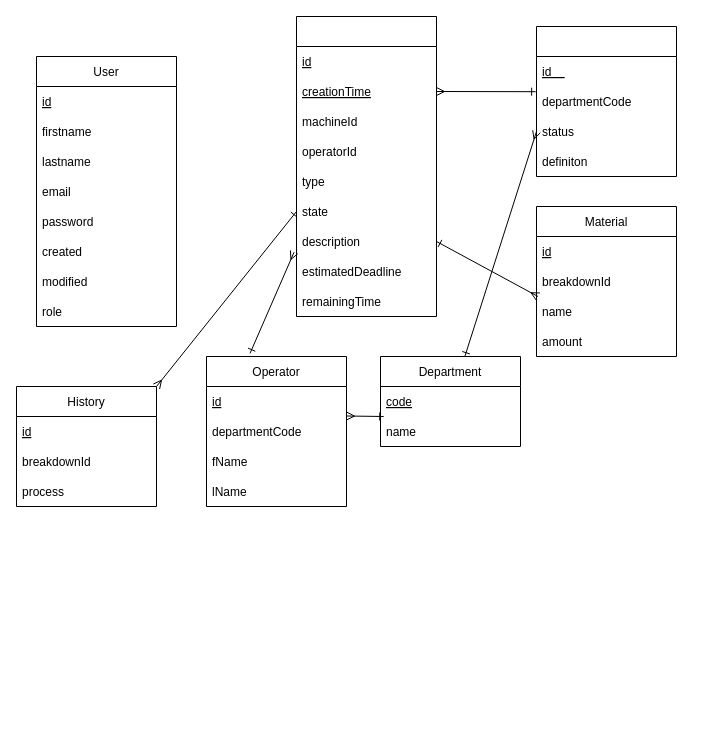
Image size: 713x733. Some labels were removed from this diagram. The shapes that lost their labels are listed below. From the top down, each one's box as (x1, y1, x2, y2) in pixels, then its label:
(536, 26, 676, 176): Machine
(296, 16, 436, 316): Breakdown
